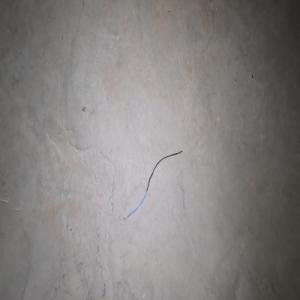Wire: (123, 150, 182, 221)
